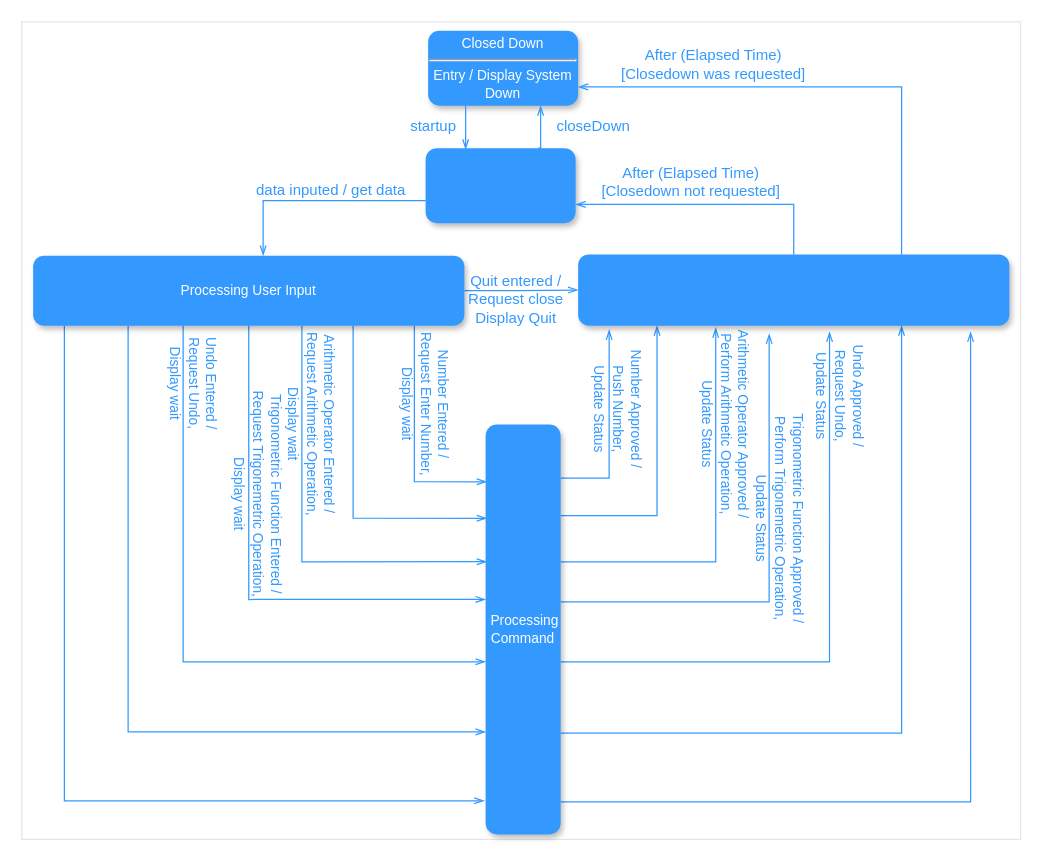
This 1043x865 diagram has some shape labels left out. The centre of each missing label's shape, as x and y in pixels:
"Idle Entry / Display Stack" goes at (501,186).
"Terminanting Command" goes at (794,291).
